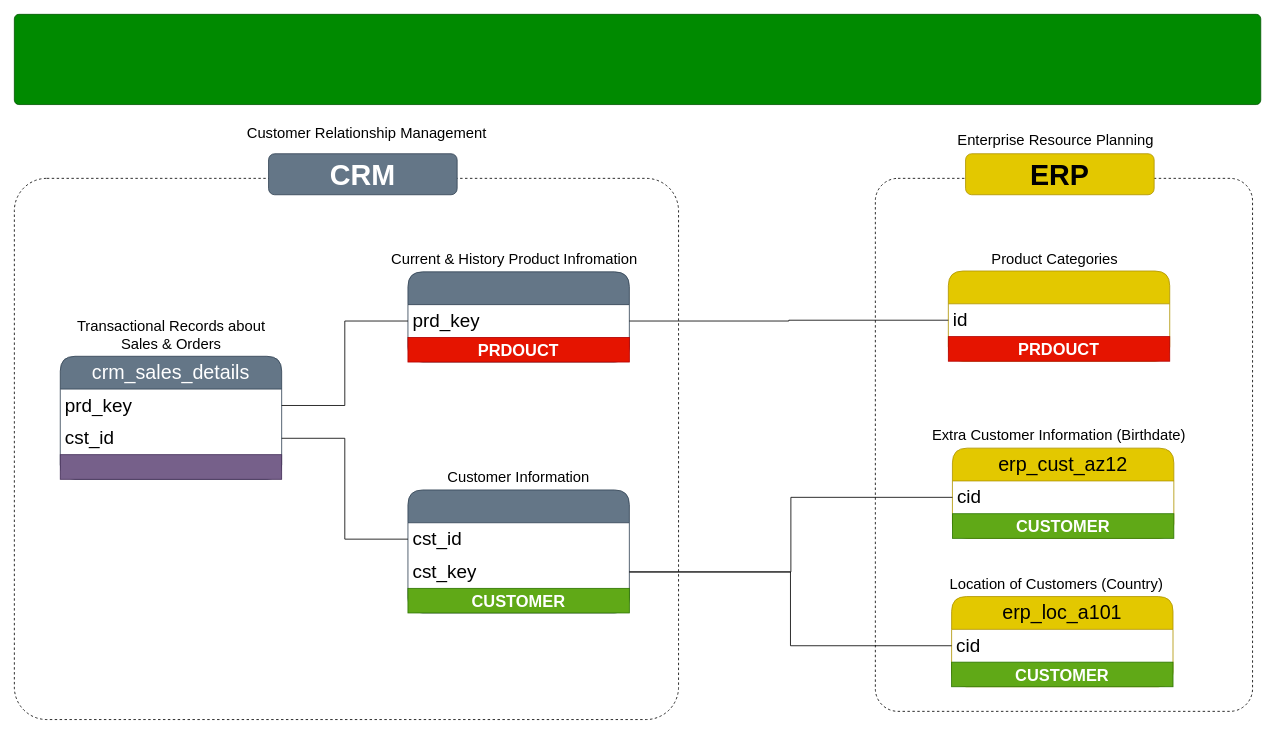
Some shapes in this 1275 by 734 pixel diagram are drawn without their labels. The shapes that lost their labels are listed below. From the top down, each one's box as (x1, y1, x2, y2) in pixels, then its label:
(14, 14, 1261, 105): Data Integration (how to tables are related)
(407, 271, 629, 362): crm_prd_info
(948, 270, 1170, 361): erp_px_cat_g1v2
(59, 454, 282, 479): SALES
(407, 489, 629, 613): crm_cust_info
